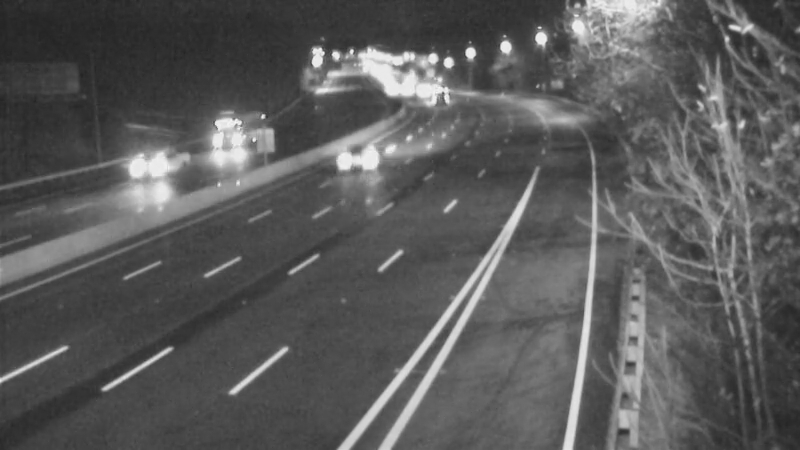vehicle: (319, 119, 399, 199), (117, 125, 197, 205), (413, 70, 463, 120), (202, 124, 252, 174)
